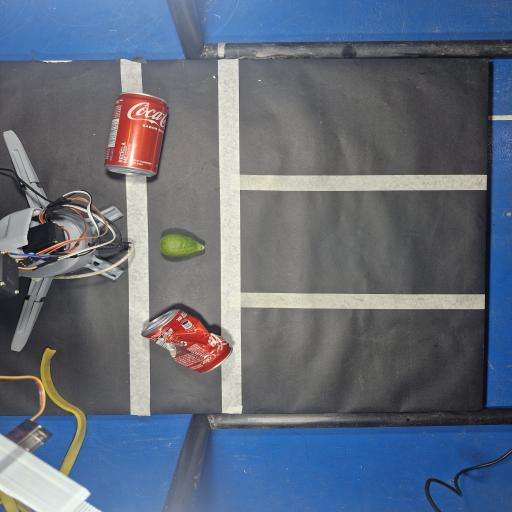higo: (160, 234, 204, 257)
lata: (105, 93, 167, 176)
lata_defectuoso: (142, 310, 231, 373)
